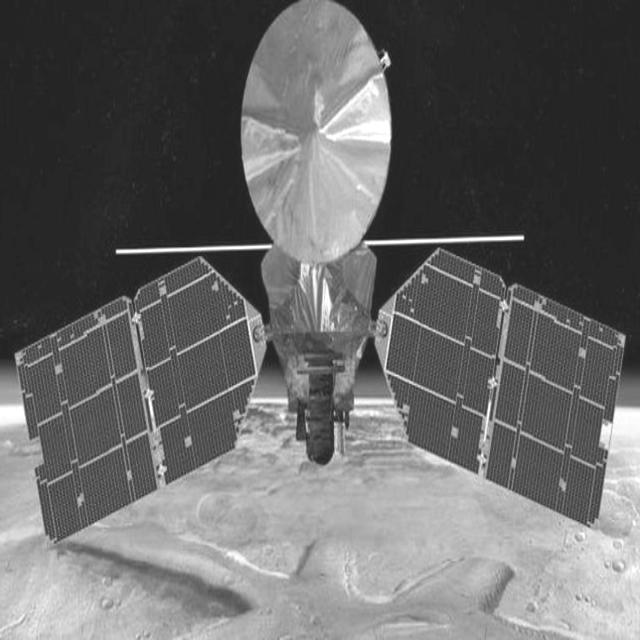medium_debris: (9, 0, 640, 557)
